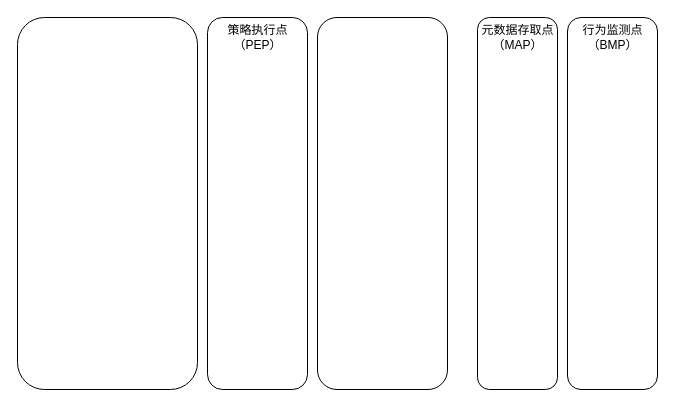
Image size: 675x407. Some labels were removed from this diagram. The shapes that lost their labels are listed below. From the top down, each one's centre as x and y in pixels, then its label:
At point 107,203: "访问请求者AR".
At point 382,203: "策略决策点 （PDP）".
